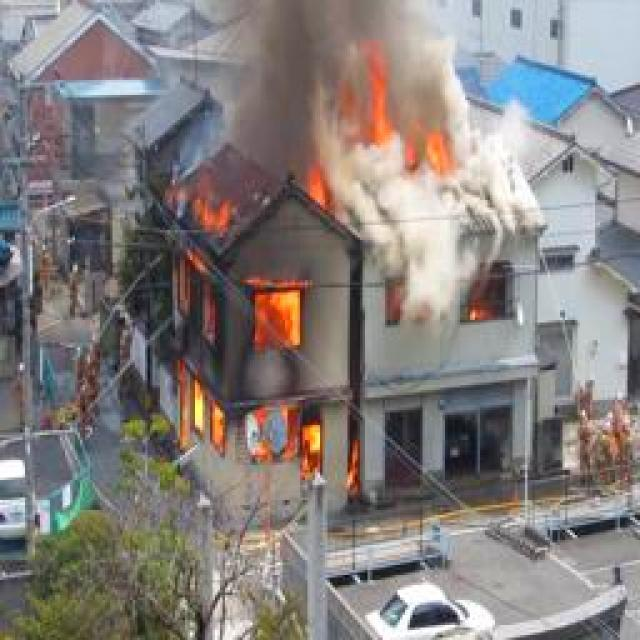Fire: (172, 169, 328, 486), (355, 75, 452, 169)
